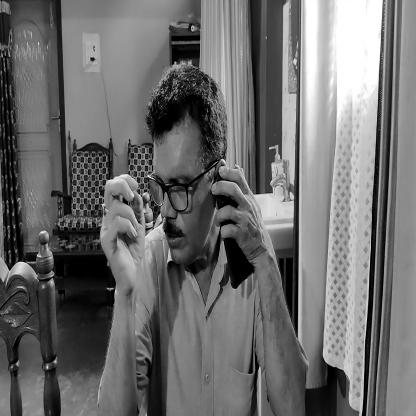Distracted: (140, 51, 226, 279)
